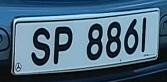1: (140, 12, 150, 55)
6: (123, 14, 139, 58)
8: (85, 21, 104, 63), (105, 15, 123, 59)
P: (51, 22, 76, 68)
S: (28, 24, 51, 69)
